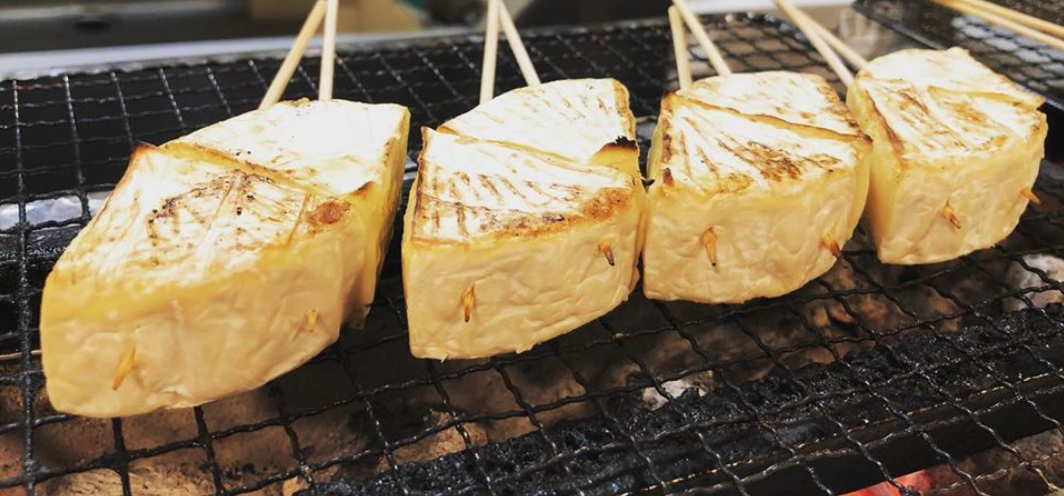camembert: (38, 94, 407, 418), (401, 76, 643, 360), (645, 63, 873, 305), (846, 45, 1046, 263)
